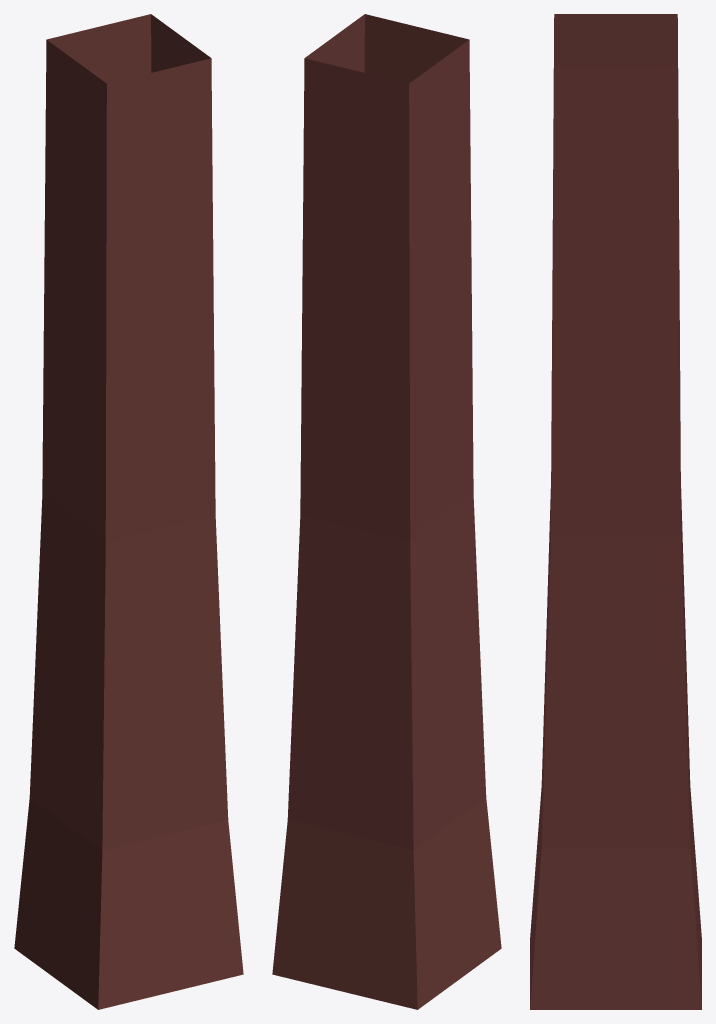
Rendered from Column_3.fbx.
3 renders of one model, left to right at view 1: azimuth 30°, elevation 25°; view 2: azimuth 150°, elevation 25°; view 3: azimuth 270°, elevation 25°, orthographic. The views are drawn at different scales.
Visible parts, largest first — view 1: Column_3; view 2: Column_3; view 3: Column_3.
Boxes of the visible parts, x1,y1,x2,y2 form: Column_3: (14,14,243,1009); Column_3: (272,14,501,1009); Column_3: (530,14,701,1009).
Size of the model in its own units: 0.5 by 0.5 by 3.
